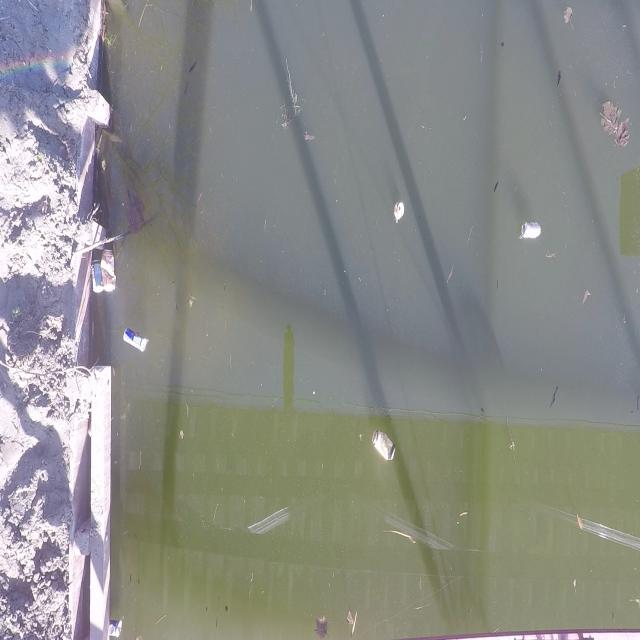Non plastique: (98, 245, 123, 298), (368, 425, 398, 467), (87, 254, 107, 305), (121, 325, 148, 355), (518, 219, 543, 246), (392, 201, 408, 229)
